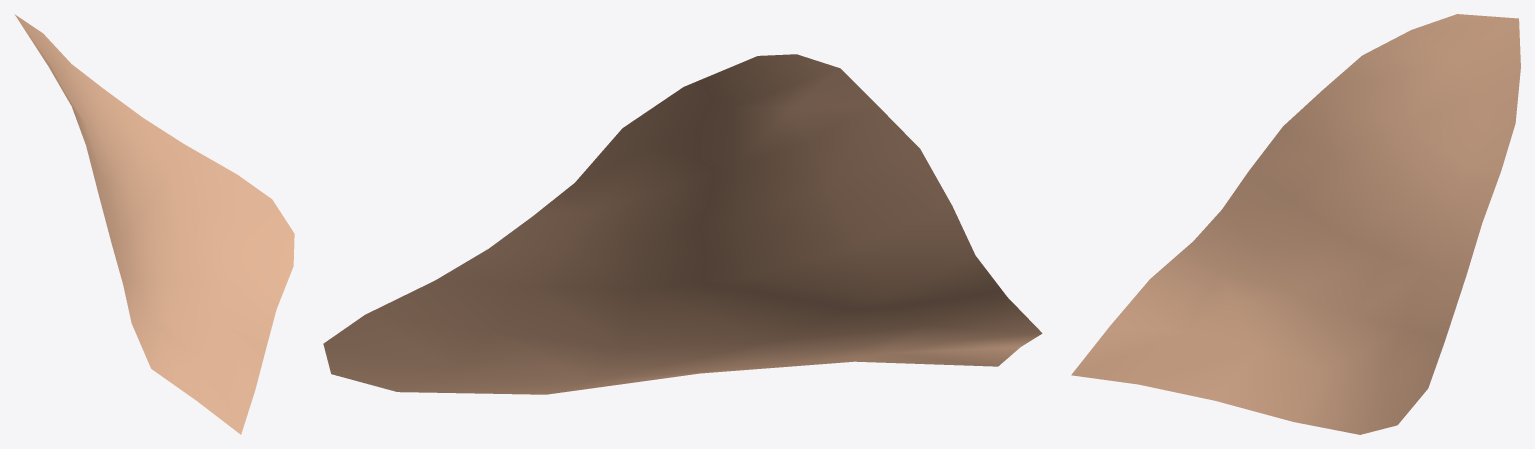
File: greater-supraclavicular-fossa-l.glb
3 renders of one model, left to right at view 1: azimuth 30°, elevation 25°; view 2: azimuth 150°, elevation 25°; view 3: azimuth 270°, elevation 25°, orthographic. The views are drawn at different scales.
Visible parts, largest first — view 1: Greater supraclavicular fossa.l; view 2: Greater supraclavicular fossa.l; view 3: Greater supraclavicular fossa.l.
Part boxes in pixels (x1=…): Greater supraclavicular fossa.l: x1=14, y1=14, x2=294, y2=434; Greater supraclavicular fossa.l: x1=323, y1=54, x2=1042, y2=394; Greater supraclavicular fossa.l: x1=1071, y1=14, x2=1520, y2=434.
Bounding box in the file's own units: 0.0435 × 0.0479 × 0.058.
